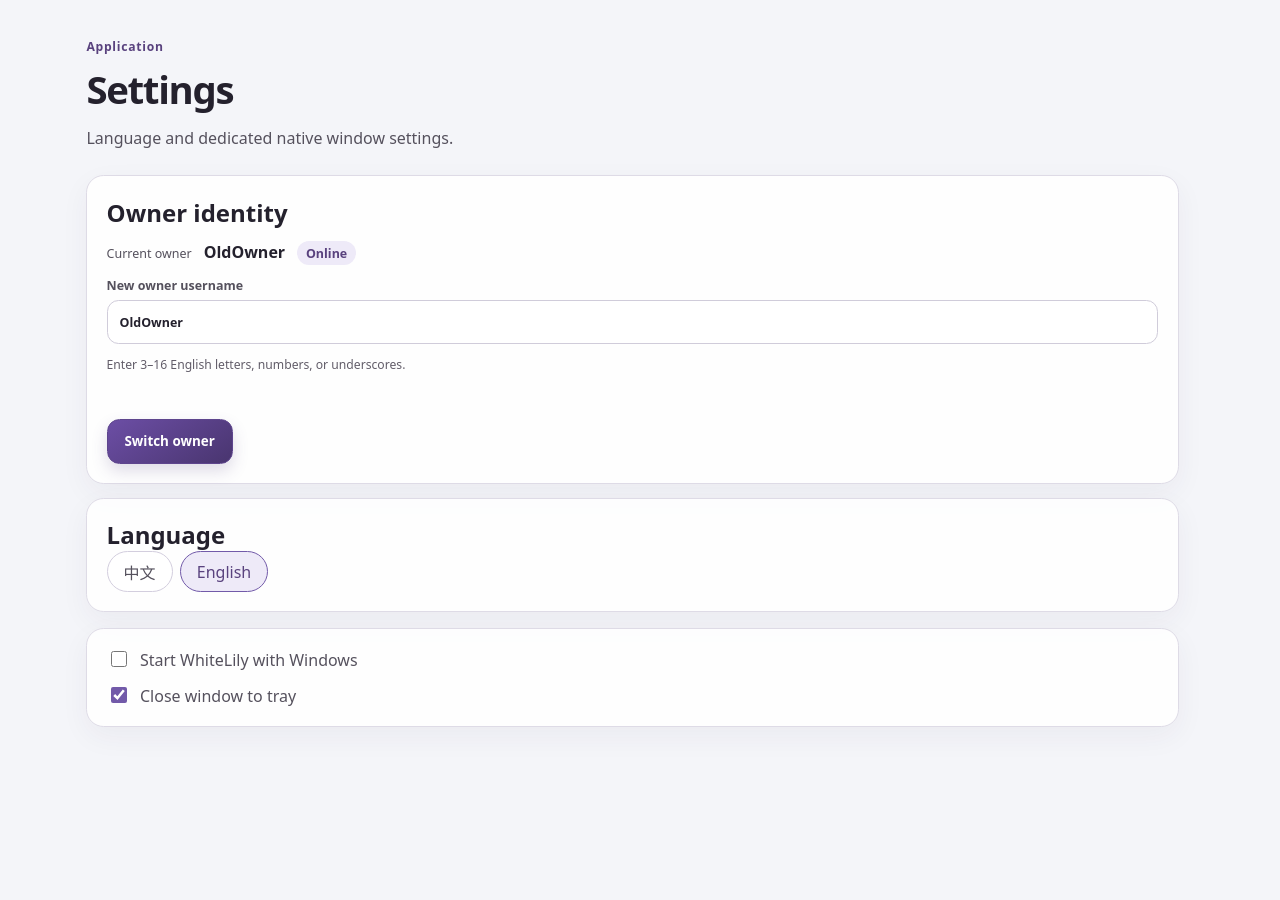
Test: SettingsPage › keeps an in-flight review open when only the old owner's presence changes
Replace the text in the field labelled "New owner username" with "NewOwner". click: {"x": 632, "y": 322}
box: top-left (107, 300), bottom-right (1158, 344)
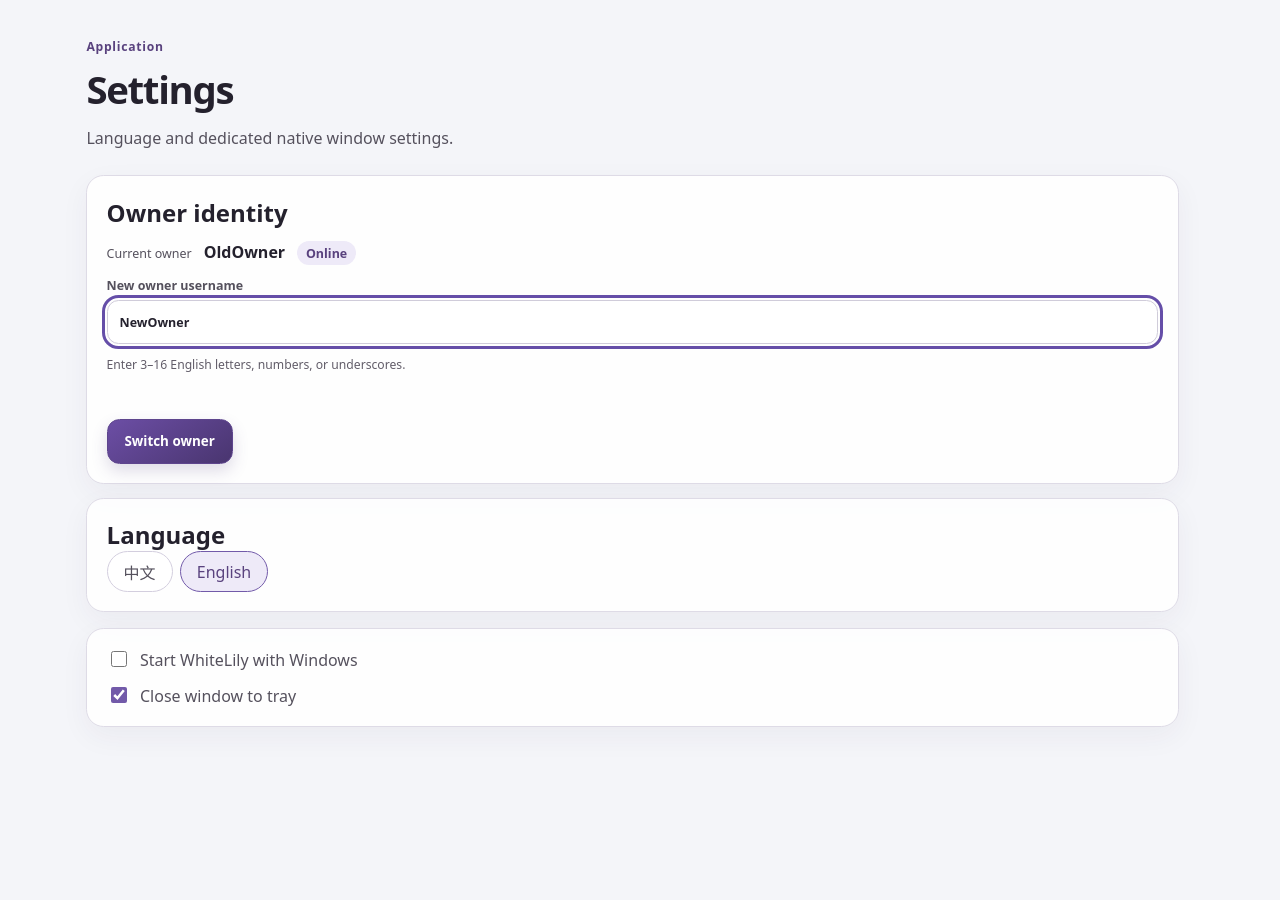
Click the button "Switch owner". click: {"x": 170, "y": 441}
box: top-left (107, 419), bottom-right (233, 464)
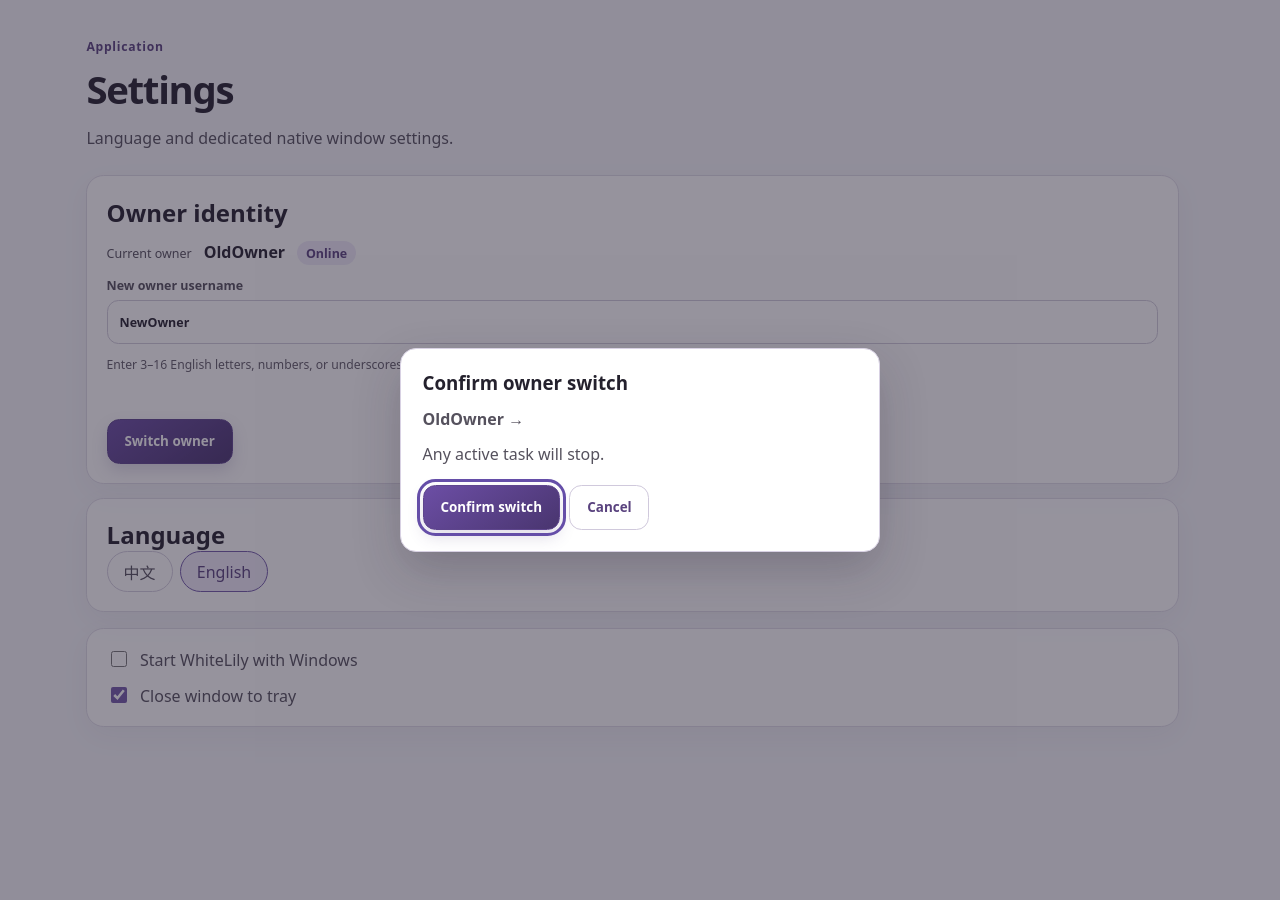
Click the button "Confirm switch". click: {"x": 491, "y": 507}
box: top-left (423, 485), bottom-right (560, 530)
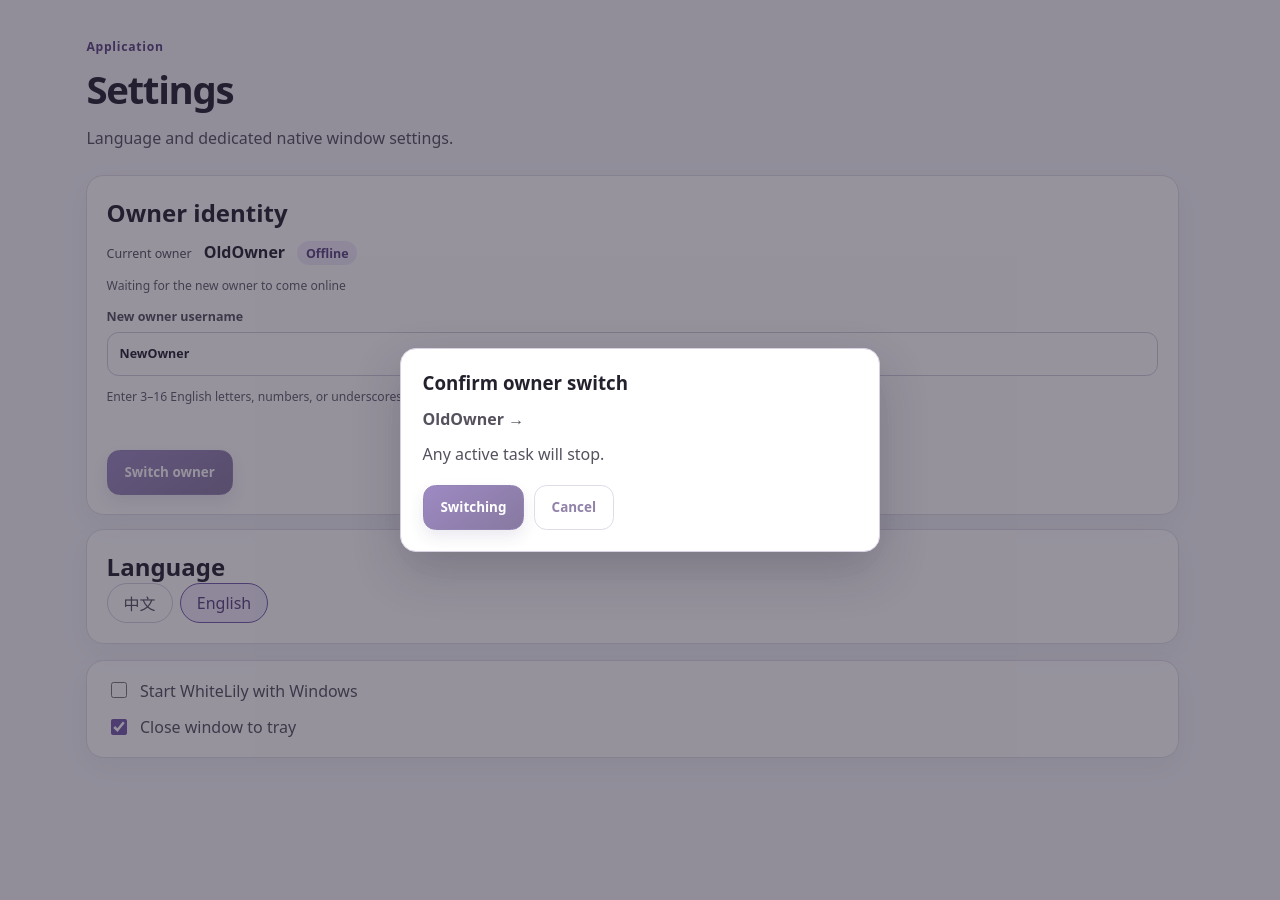
Now the dialog "Confirm owner switch" is shown, box top-left (400, 348), bottom-right (880, 552)
Now the button "Switching" is shown, box top-left (423, 485), bottom-right (524, 530)
